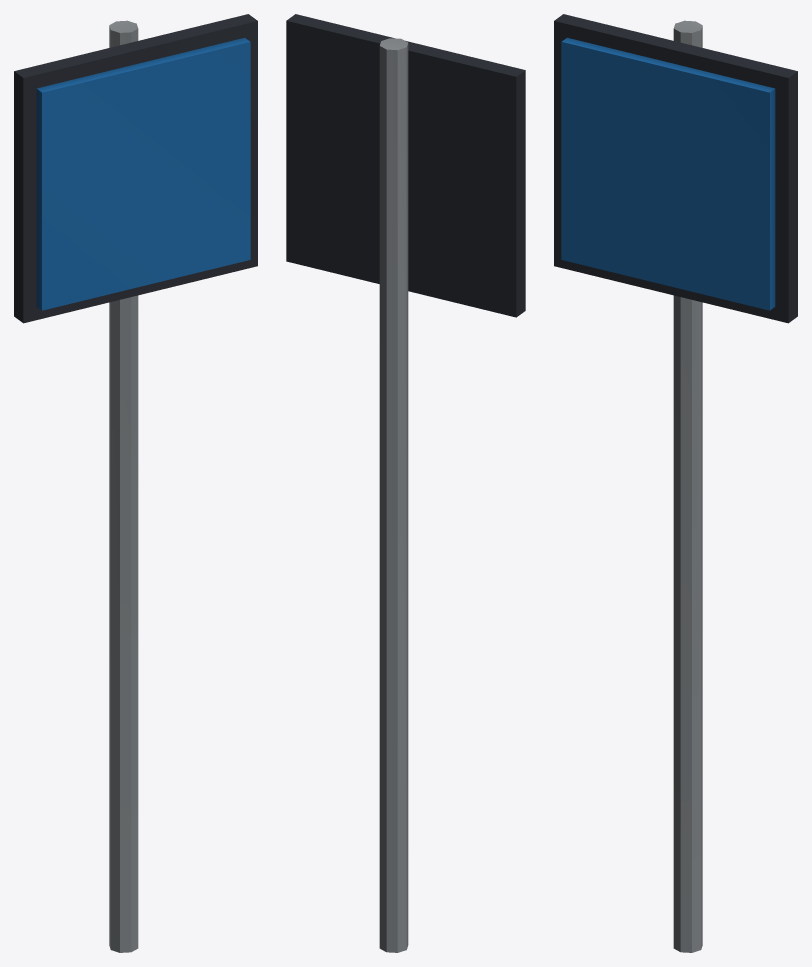
Rendered from senal-1-awA-AZnC.glb.
3 views of the same model, side by side, from view 1: azimuth 30°, elevation 25°; view 2: azimuth 150°, elevation 25°; view 3: azimuth 330°, elevation 25° (orthographic).
Parts seen in each view (by area): view 1: pieza.001, cilindro, pieza; view 2: pieza, cilindro; view 3: pieza.001, cilindro, pieza.
Boxes of the visible parts, <box> form: pieza.001: <box>36,37,250,310</box>; cilindro: <box>109,20,138,952</box>; pieza: <box>14,14,257,323</box>; pieza: <box>286,14,525,317</box>; cilindro: <box>379,38,408,952</box>; pieza.001: <box>561,37,775,310</box>; cilindro: <box>673,20,702,952</box>; pieza: <box>554,14,797,323</box>.
Size of the model in its own units: 0.72 by 2.7 by 0.16.
